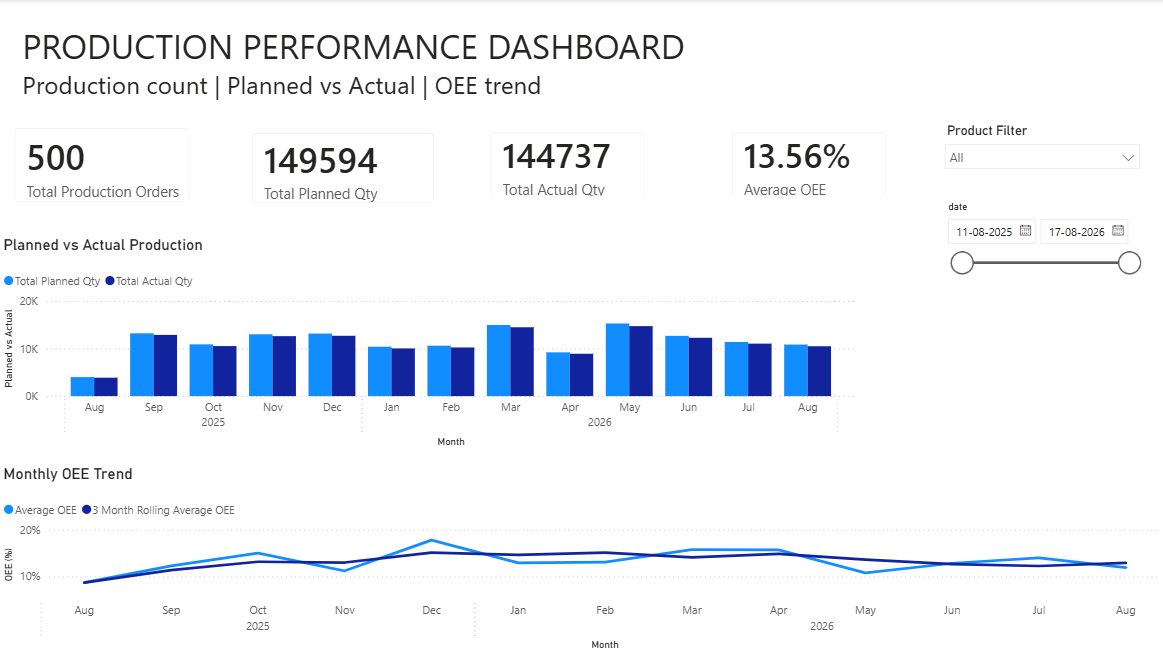

This screenshot's page, from the dashboard's own definition file:
{"tool":"powerbi","page":{"name":"Production Overview","canvas":[1280,720],"ordinal":0},"visuals":[{"type":"cardVisual","fields":{"Data":["public fact_production_kpis.Total Orders"]},"box":[0,124.9,226.4,115.3],"z":0},{"type":"cardVisual","fields":{"Data":["public fact_production_kpis.Total Planned Qty"]},"box":[260.7,130.4,234.6,111.1],"z":1000},{"type":"cardVisual","fields":{"Data":["public fact_production_kpis.Total Actual Qty"]},"box":[522.8,129,203.1,105.7],"z":2000},{"type":"cardVisual","fields":{"Data":["public fact_production_kpis.Average OEE"]},"box":[787.7,129,203.1,105.7],"z":3000},{"type":"clusteredColumnChart","title":"Planned vs Actual Production","fields":{"Y":["public fact_production_kpis.Total Planned Qty","public fact_production_kpis.Total Actual Qty"],"Category":["public dim_time.year","public dim_time.Month Name"]},"box":[0,259.3,945.5,237.4],"z":4000},{"type":"lineChart","title":"Monthly OEE Trend","fields":{"Category":["public dim_time.year","public dim_time.Month Name"],"Y":["public fact_production_kpis.Average OEE","public fact_production_kpis.3 Month Rolling Average OEE"]},"box":[0,510.5,1280.3,209.9],"z":5000},{"type":"slicer","fields":{"Values":["public fact_production_kpis.product_id"]},"box":[1027.8,130.4,234.6,86.4],"z":6000},{"type":"textbox","box":[20.6,20.6,1259.7,93.3],"z":7000},{"type":"slicer","fields":{"Values":["public dim_time.date"]},"box":[1029.2,216.8,233.3,87.8],"z":8000}]}

Visuals, with their boxes in screenshot pixels (x1, y1, x2, y2), scaled from the page's 1280x720 canvas onto the 1163x653 screenshot:
cardVisual - public fact_production_kpis.Total Orders: [0,113,206,218]
cardVisual - public fact_production_kpis.Total Planned Qty: [237,118,450,219]
cardVisual - public fact_production_kpis.Total Actual Qty: [475,117,660,213]
cardVisual - public fact_production_kpis.Average OEE: [716,117,900,213]
"Planned vs Actual Production" clusteredColumnChart: [0,235,859,450]
"Monthly OEE Trend" lineChart: [0,463,1162,652]
slicer - public fact_production_kpis.product_id: [934,118,1147,197]
textbox: [19,19,1162,103]
slicer - public dim_time.date: [935,197,1147,276]
